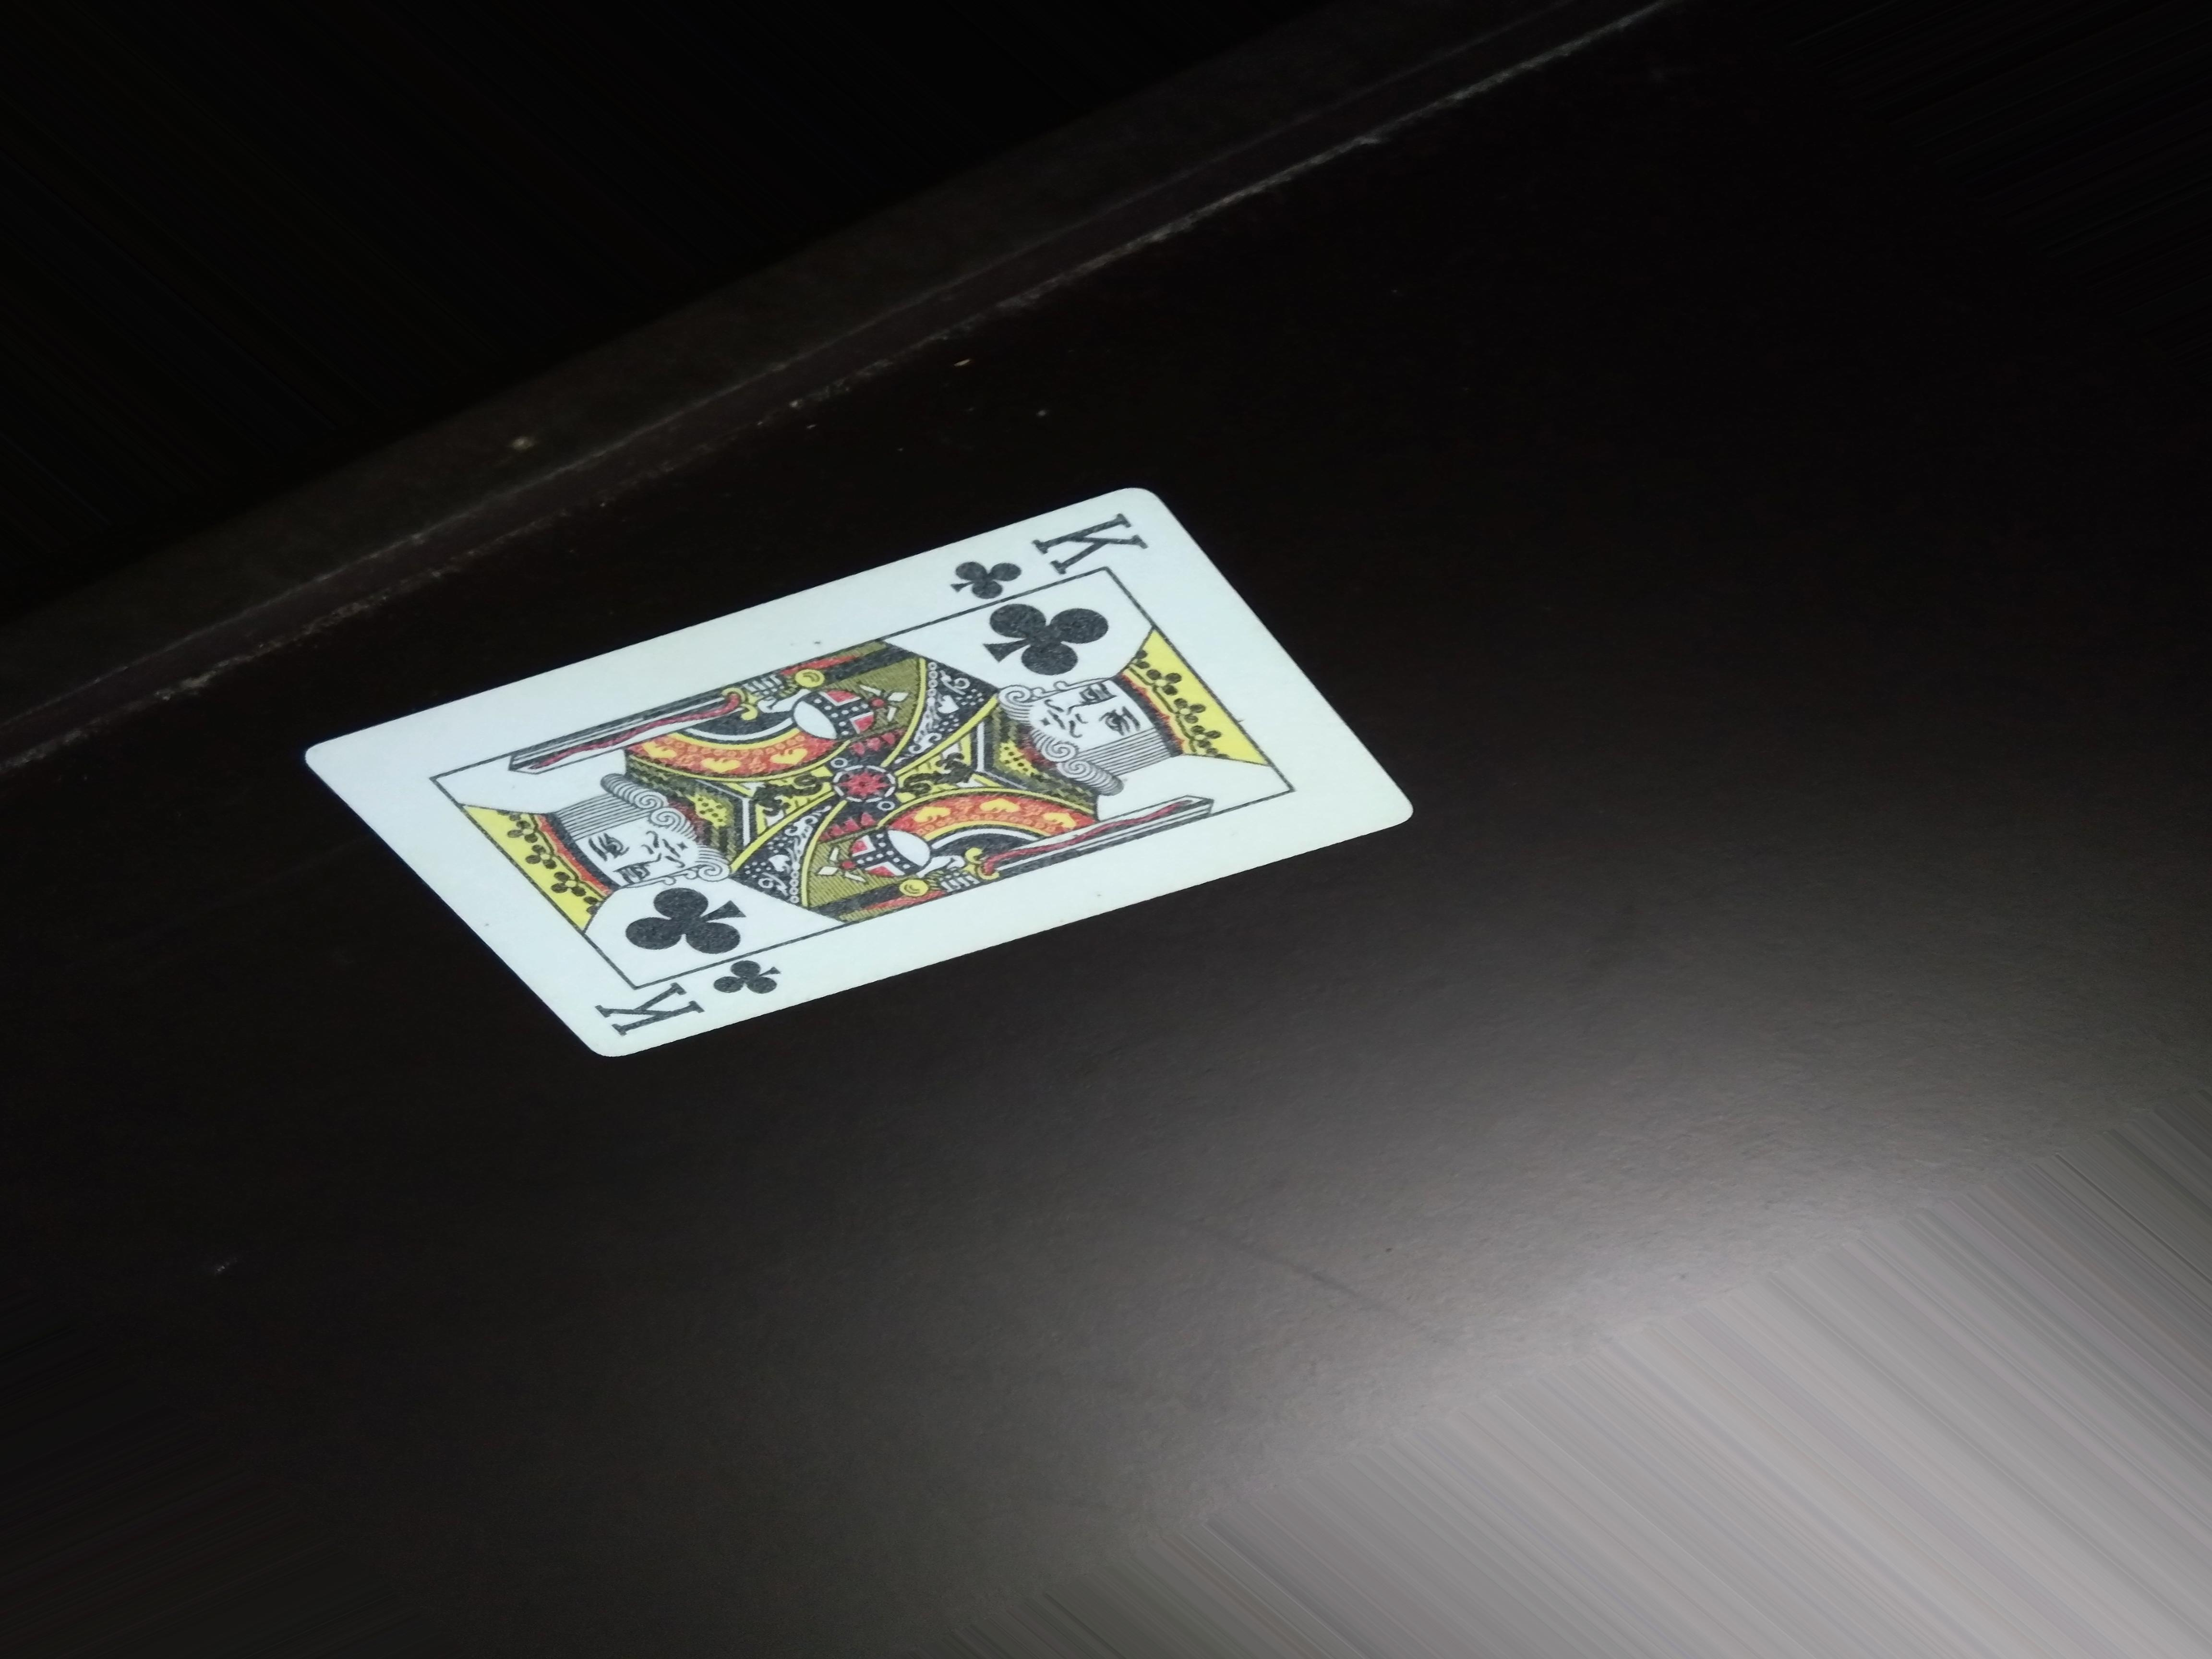KC: (939, 493, 1167, 599)
